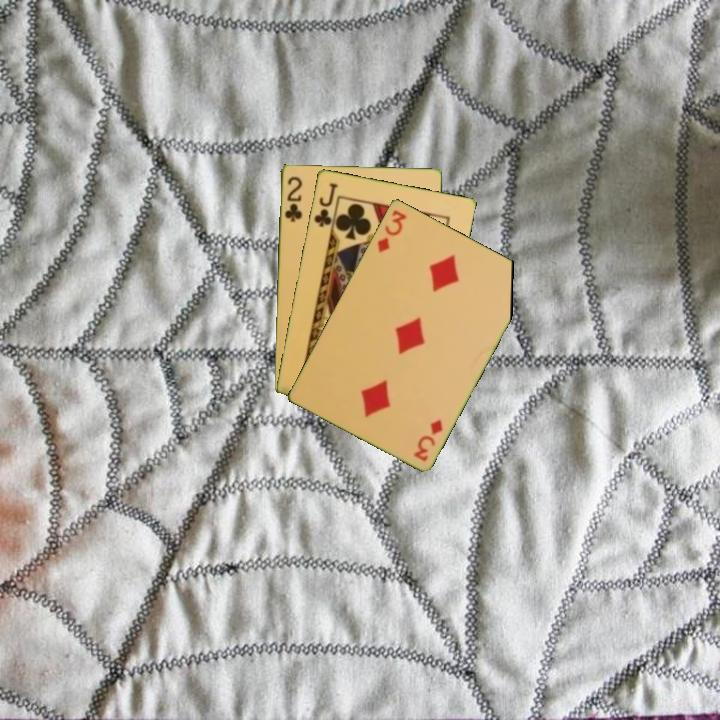2c: (281, 173, 305, 224)
3d: (373, 206, 409, 255), (410, 416, 445, 464)
Jc: (310, 179, 340, 230)
